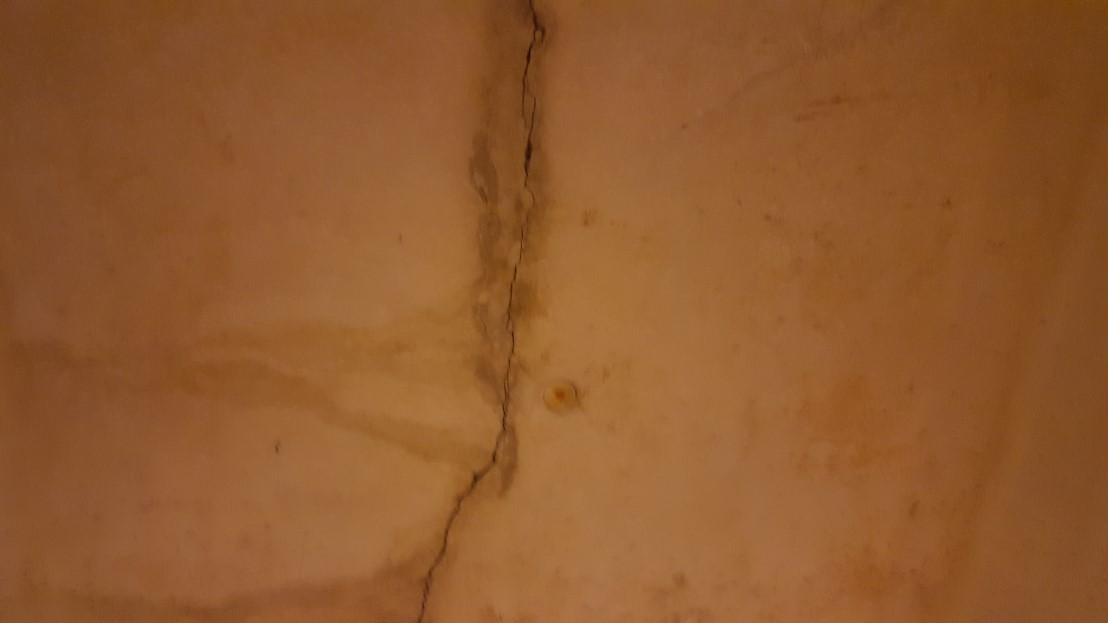Crack: (405, 0, 558, 623)
